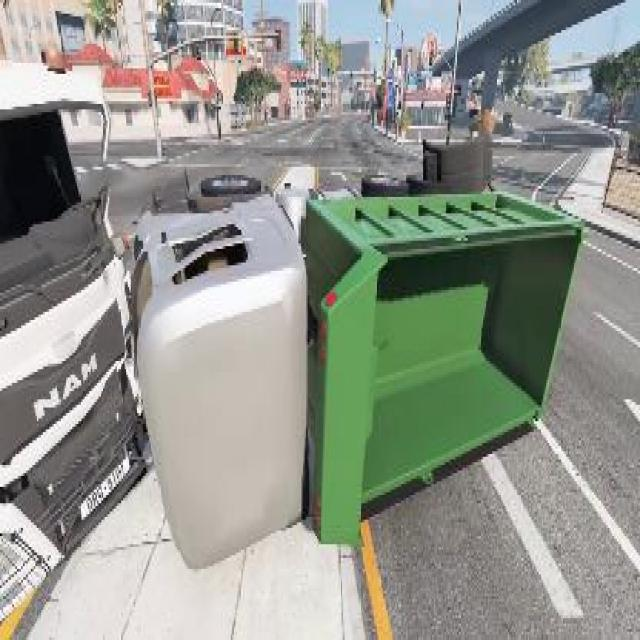accident: (0, 29, 585, 638)
